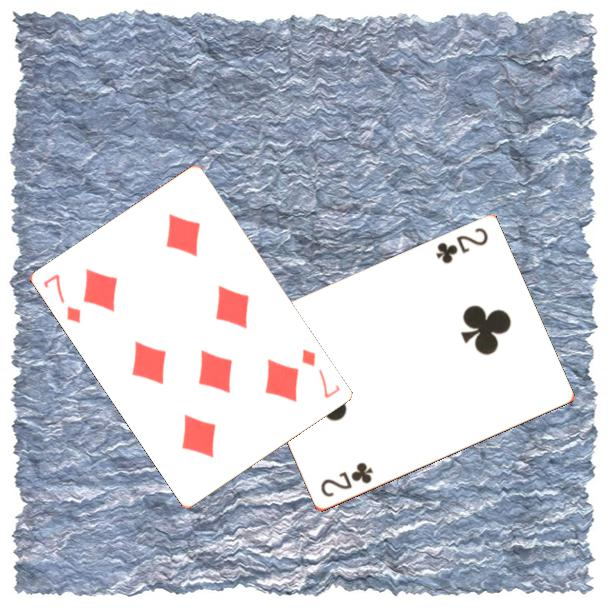c02: (432, 224, 491, 267), (317, 459, 376, 501)
d07: (298, 345, 344, 401), (40, 270, 84, 326)
